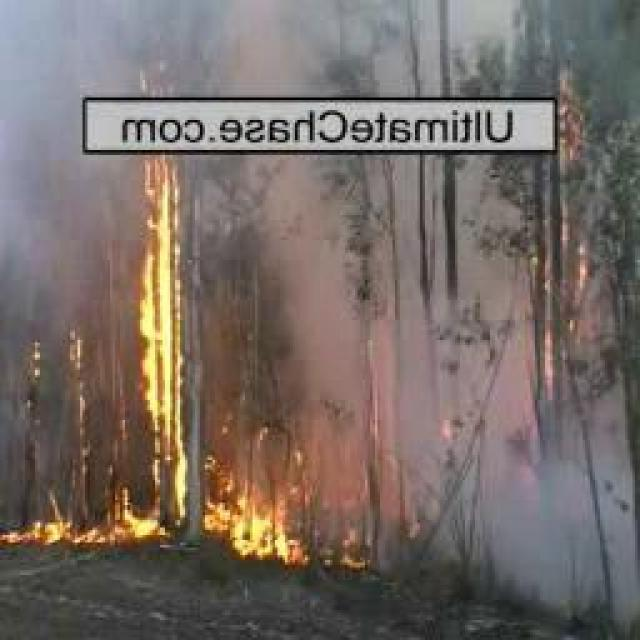Fire: (143, 103, 193, 534), (539, 234, 602, 436), (213, 439, 300, 563), (2, 504, 129, 549), (58, 335, 88, 490), (545, 72, 584, 173)
